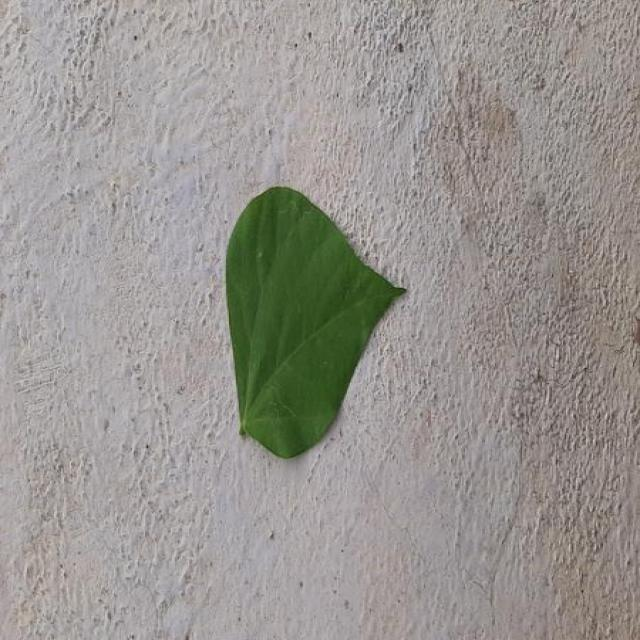beans: (227, 188, 405, 457)
